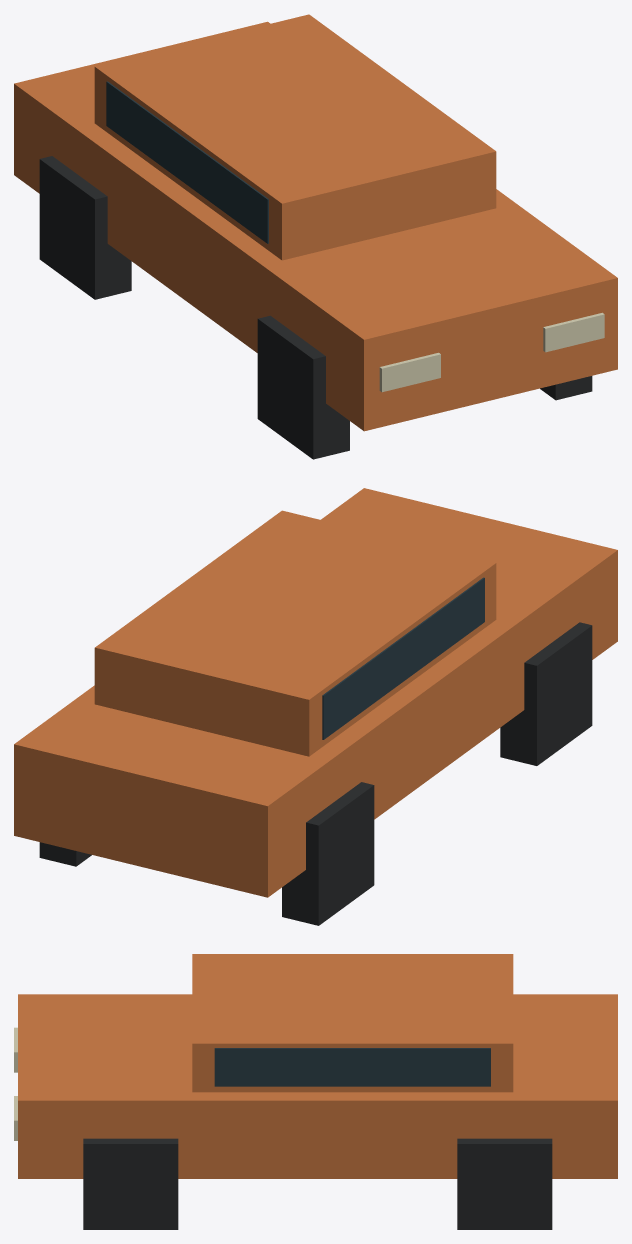
Rendered from car-orange.glb.
The picture shows the model from 3 angles, top to bottom: view 1: azimuth 30°, elevation 25°; view 2: azimuth 150°, elevation 25°; view 3: azimuth 270°, elevation 25°; orthographic projection. The views are drawn at different scales.
Size of the model in its own units: 1.98 by 1.37 by 4.33.
